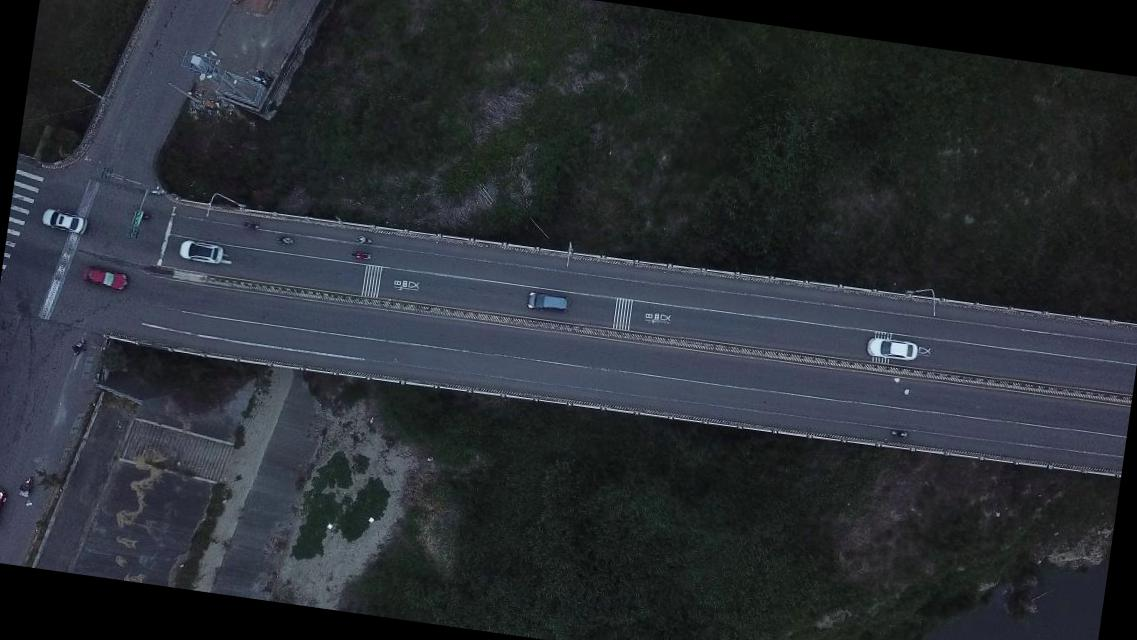vehicle: (862, 334, 920, 364), (80, 264, 130, 294), (176, 236, 224, 266), (37, 207, 88, 234), (526, 287, 572, 314), (0, 484, 9, 536)
